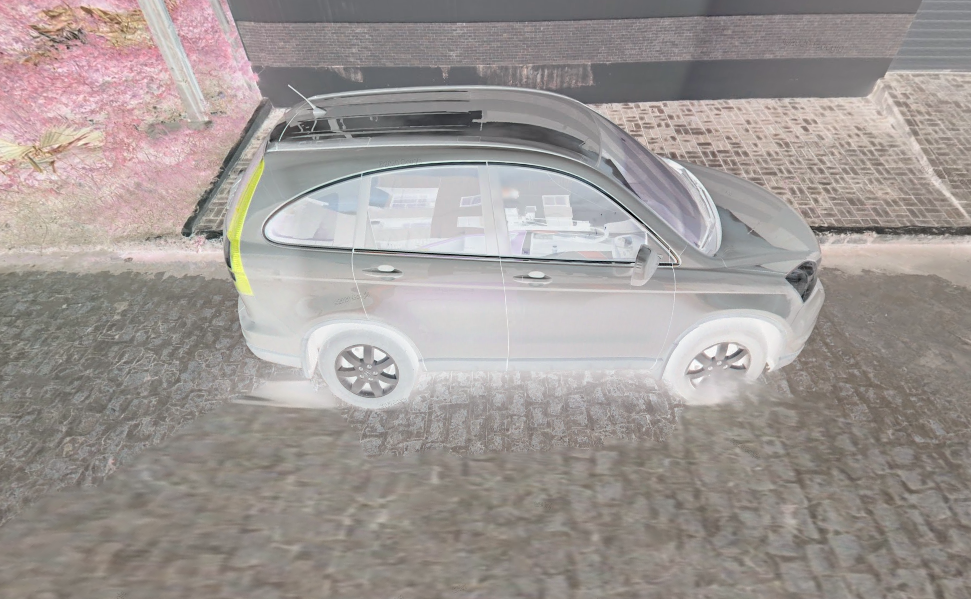car: (217, 72, 832, 417)
